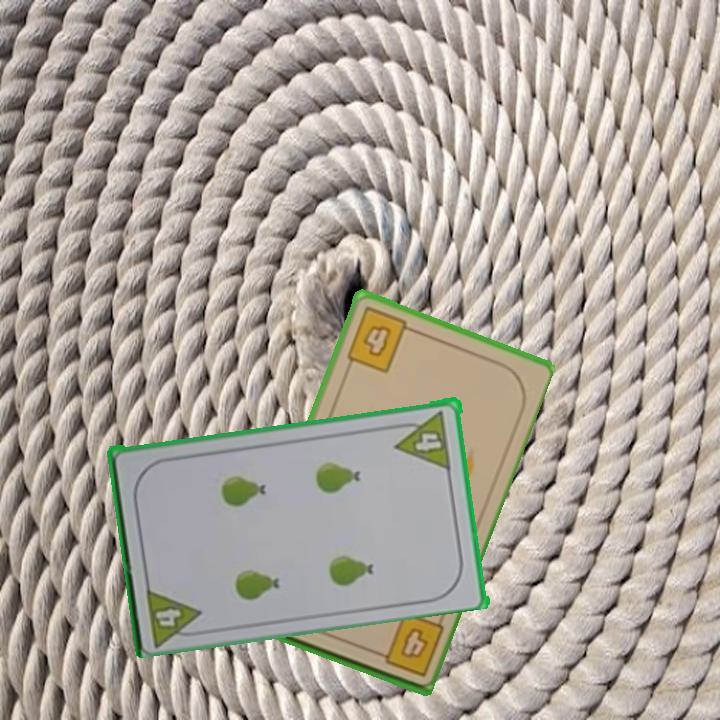4b: (342, 303, 419, 376), (368, 608, 446, 680)
4p: (142, 581, 208, 647), (391, 406, 454, 472)
